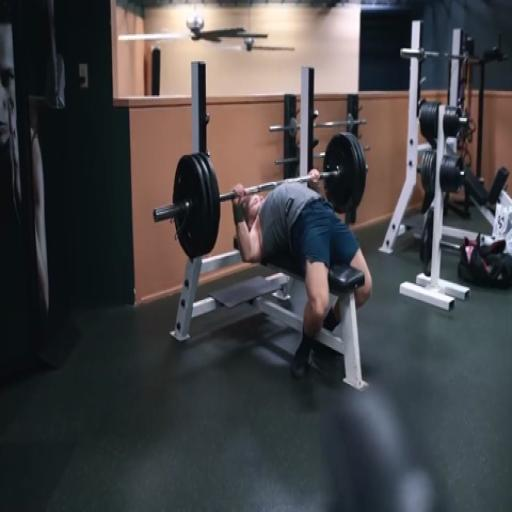exercise: (228, 175, 374, 383)
